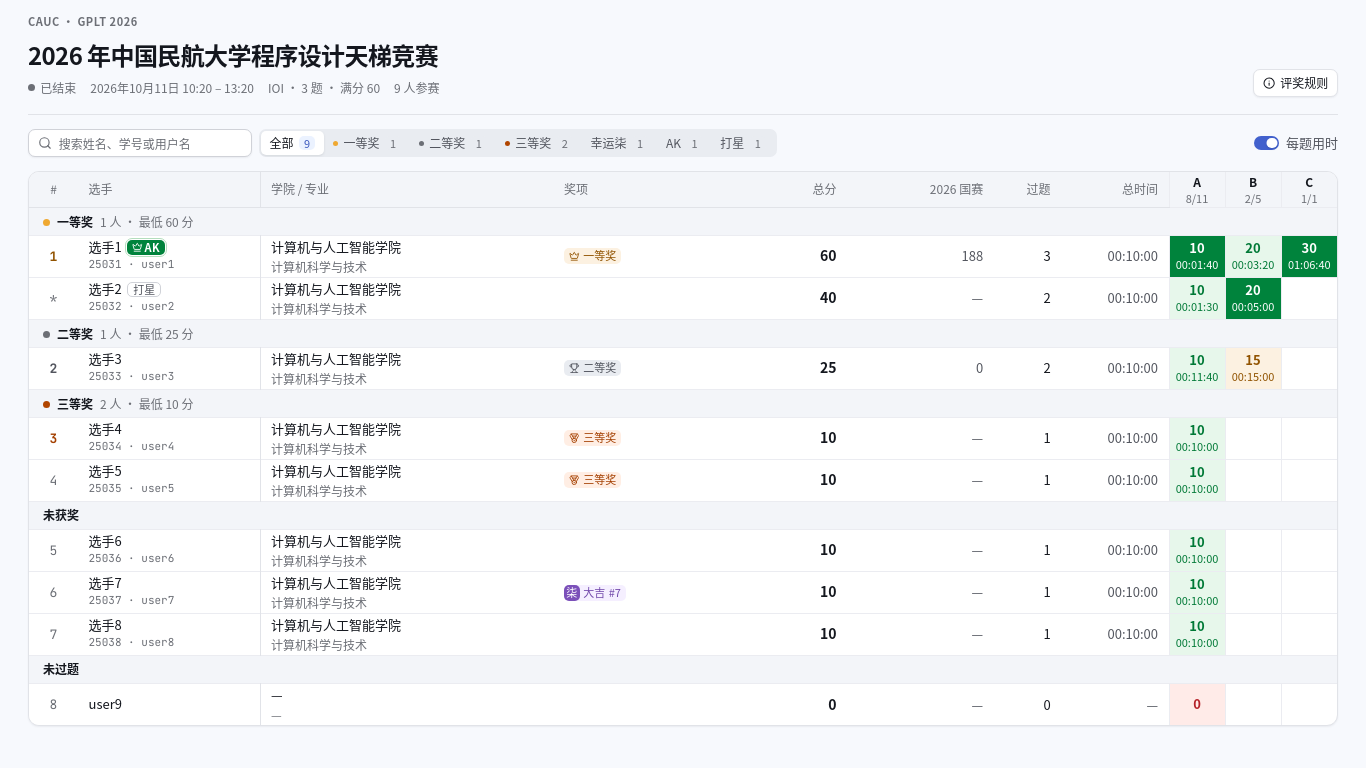
public contest board page › shows administrator national scores only for official entrants and preserves a real zero
Check: the column heading "2026 国赛" is shown, box [847,172,994,207]
Click the tab "打星 1": (743, 143) [712,131,775,155]
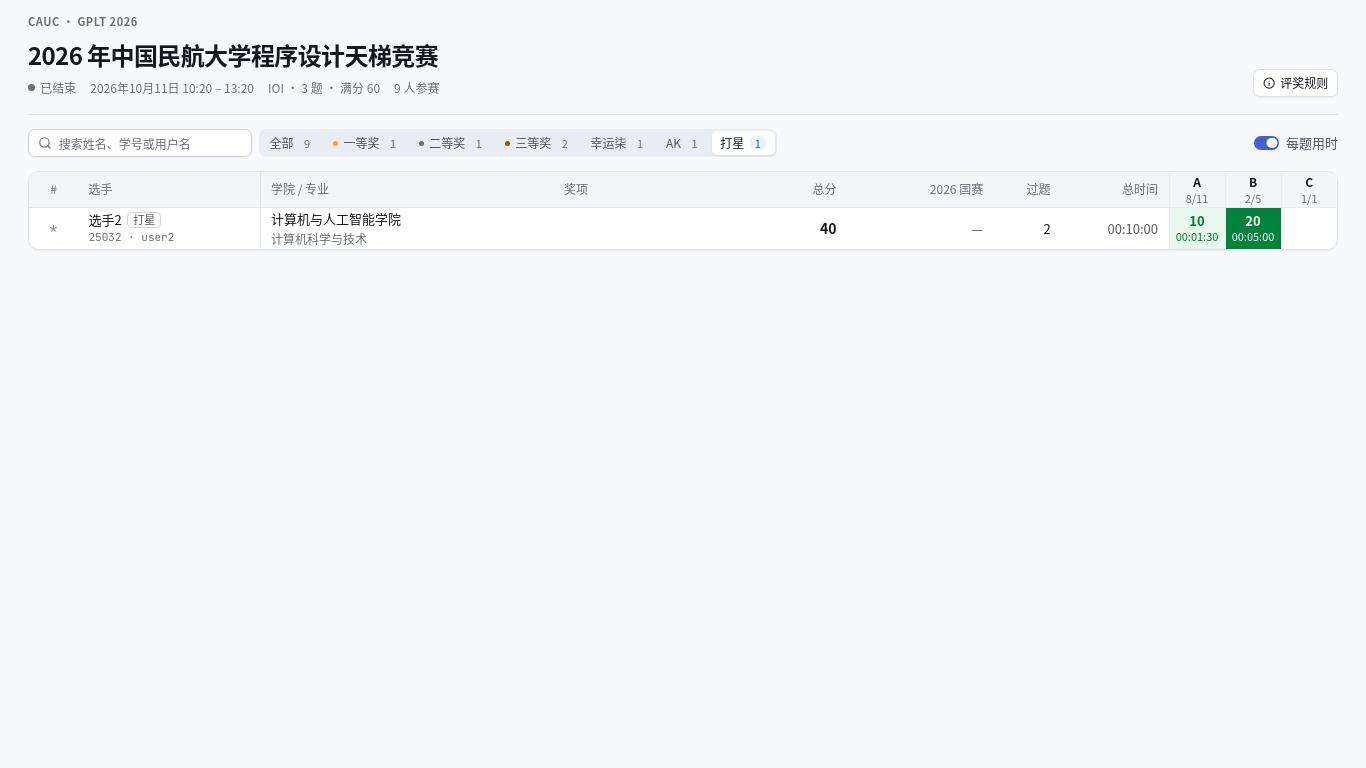
Check: the text "188" is gone
